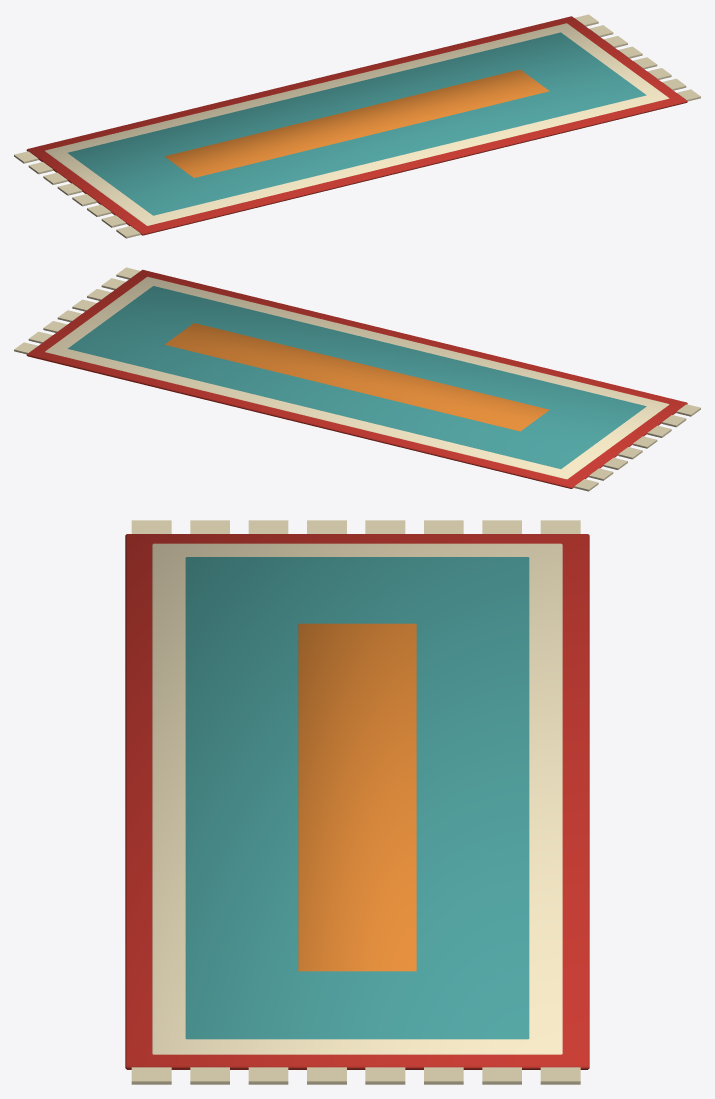
The model's file is Rug_Runner_01.glb.
3 renders of one model, top to bottom at view 1: azimuth 30°, elevation 25°; view 2: azimuth 150°, elevation 25°; view 3: azimuth 270°, elevation 25°, orthographic. The views are drawn at different scales.
Visible parts, largest first — view 1: SM_Rug_Runner_01; view 2: SM_Rug_Runner_01; view 3: SM_Rug_Runner_01.
Part boxes in pixels (<box>): SM_Rug_Runner_01: <box>14,14,700,238</box>; SM_Rug_Runner_01: <box>14,267,700,491</box>; SM_Rug_Runner_01: <box>125,520,589,1084</box>.
Size of the model in its own units: 2 by 0.012 by 0.7.
1 material, 1 textured.
